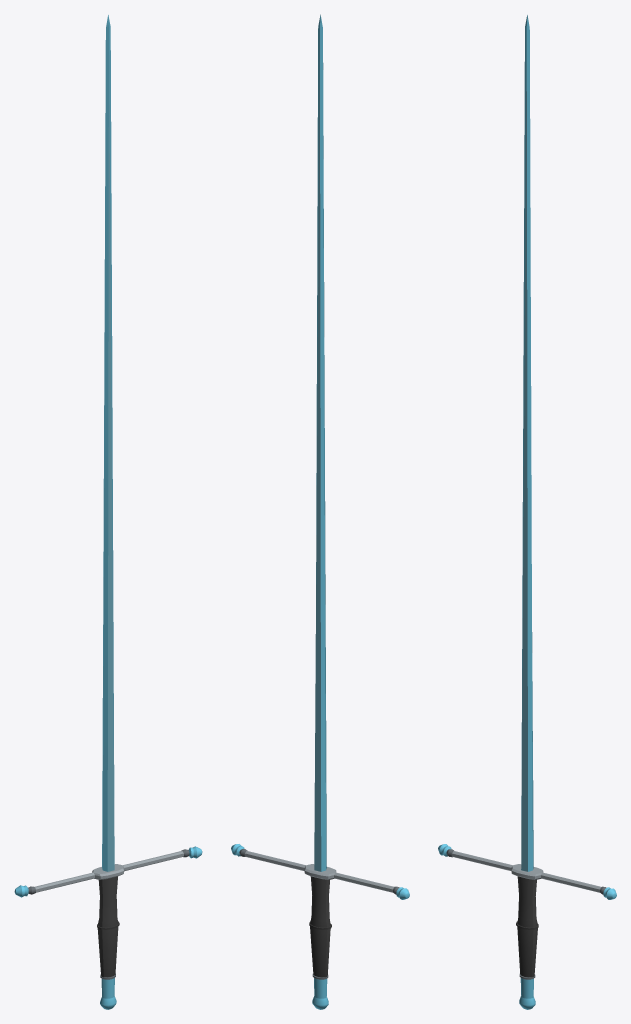
Rendered from SM_Sword07_Estoc_6Fantasy_Blue.fbx.
The picture shows the model from 3 angles, left to right: view 1: azimuth 30°, elevation 25°; view 2: azimuth 150°, elevation 25°; view 3: azimuth 330°, elevation 25°; orthographic projection.
Visible parts, largest first — view 1: Cube.458, Cylinder.658, Cube.459, Sphere.136; view 2: Cube.458, Cylinder.658, Cube.459, Sphere.136; view 3: Cube.458, Cylinder.658, Cube.459, Sphere.136.
Part boxes in pixels (x1,y1,x2,y2): Cube.458: (102,15,114,871); Cylinder.658: (97,876,118,977); Cube.459: (34,851,183,892); Sphere.136: (100,974,116,1009); Cube.458: (314,14,326,871); Cylinder.658: (310,876,330,977); Cube.459: (245,851,394,892); Sphere.136: (312,974,328,1009); Cube.458: (521,15,533,871); Cylinder.658: (517,876,537,977); Cube.459: (452,851,601,892); Sphere.136: (519,974,535,1009).
Size of the model in its own units: 0.219 by 1.14 by 0.0204.
